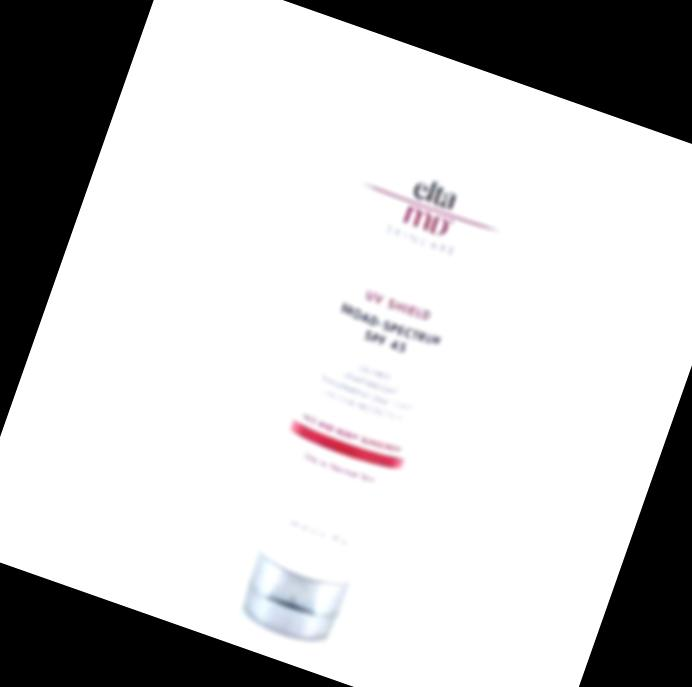cosmetic: (195, 73, 554, 666)
